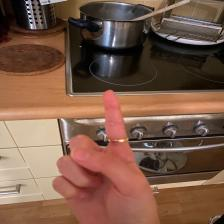one: (48, 90, 157, 223)
